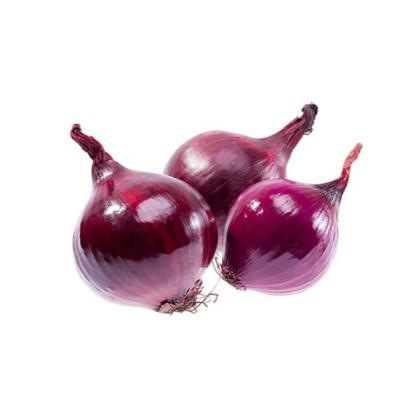onion: (198, 144, 350, 288), (64, 166, 212, 308), (187, 126, 271, 203)
